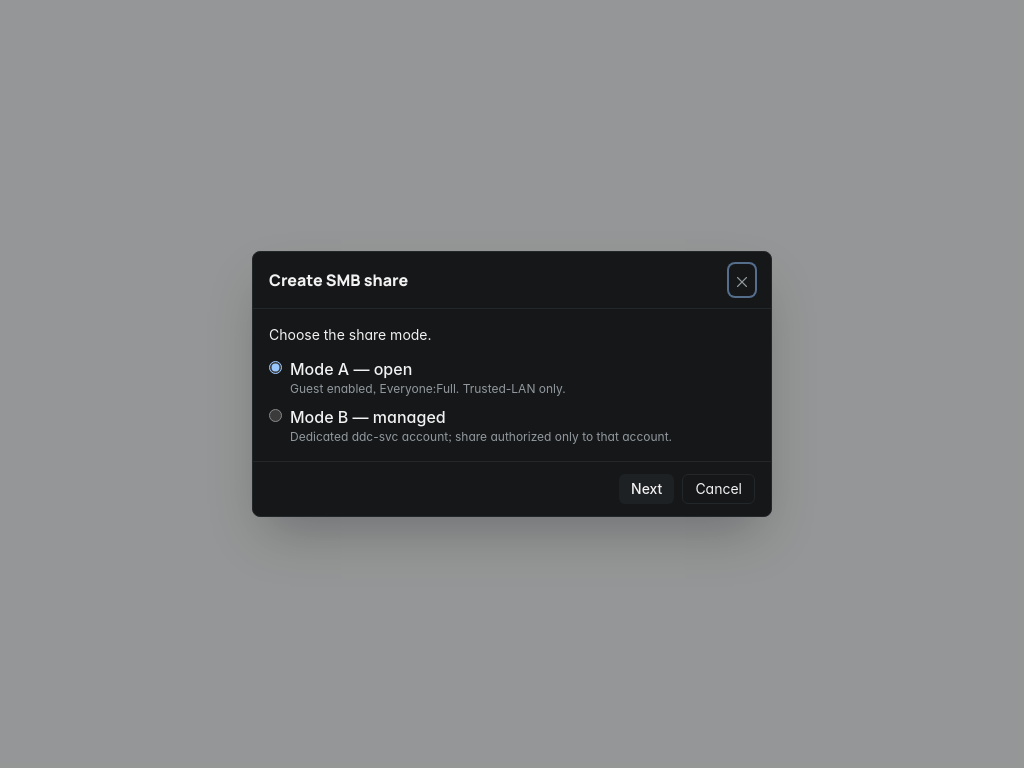
Test case: ShareCreateWizard › Mode B requires svc username field
Click the 2nd radio button at (276, 416), box [269,409,282,422]
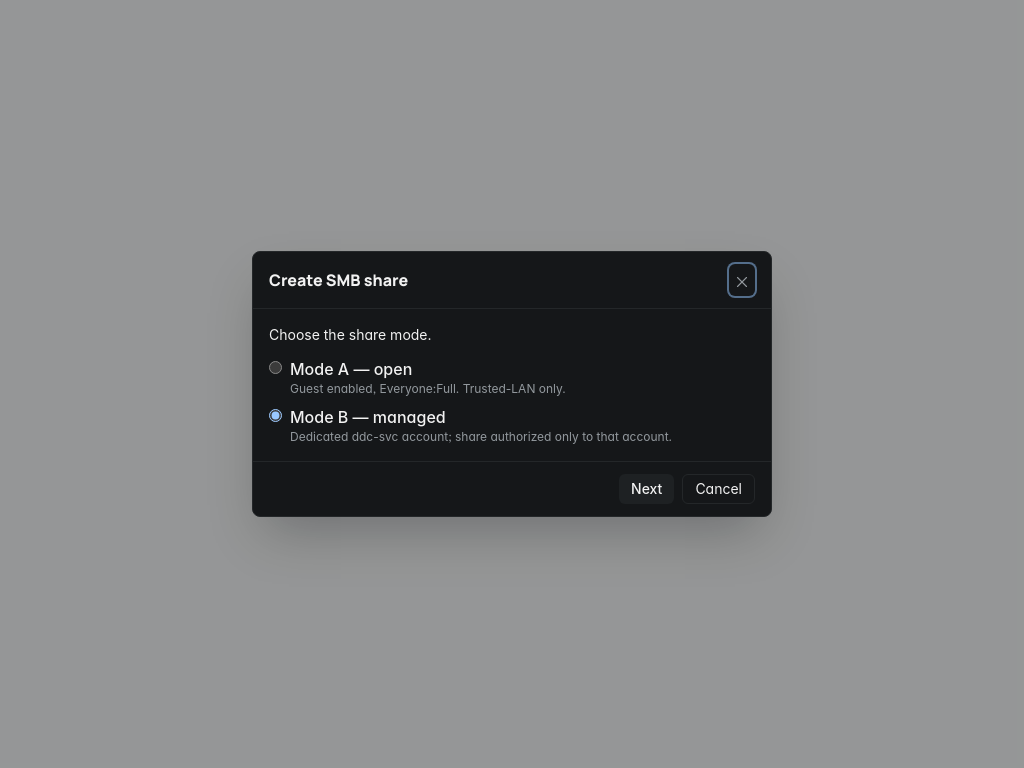
Click the button "Next" at (647, 489), box [619,474,674,504]
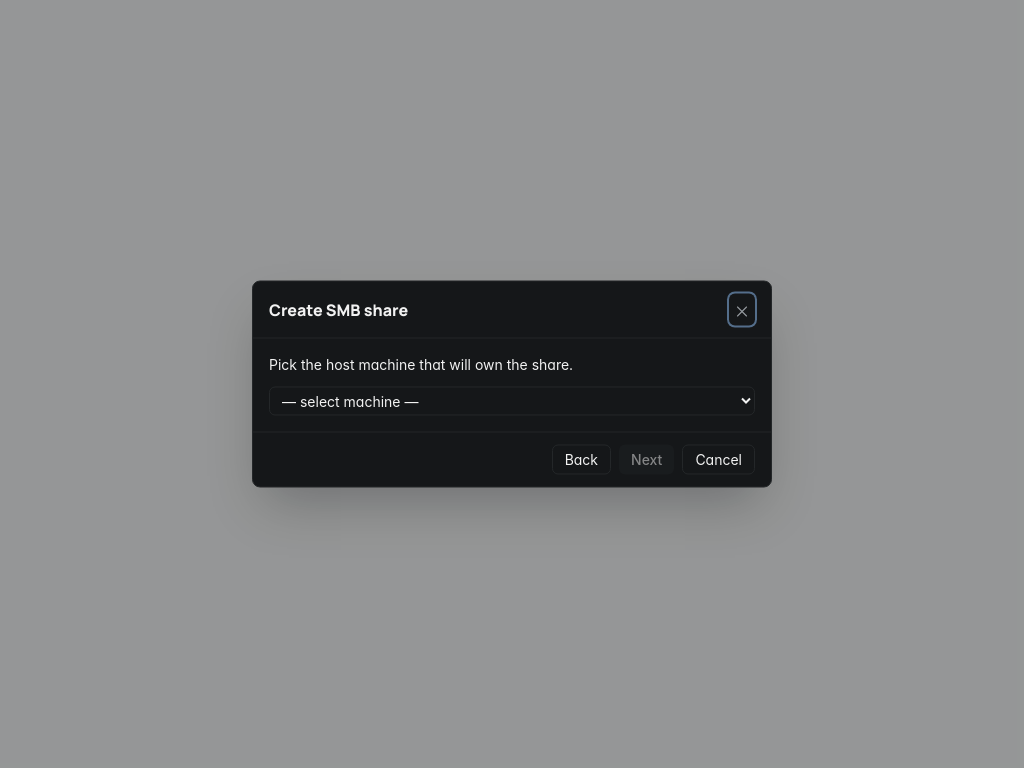
Select "lanPC (192.168.10.20)" in the dropdown at (512, 401), box [269,386,755,416]
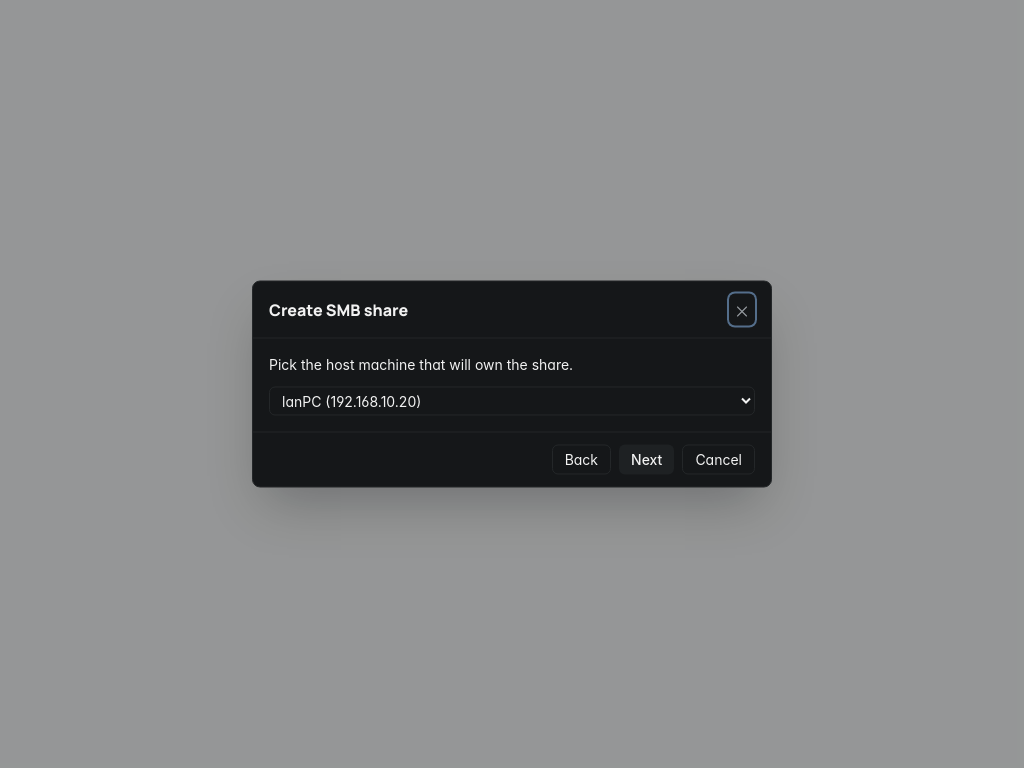
Click the button "Next" at (647, 460), box [619,444,674,474]
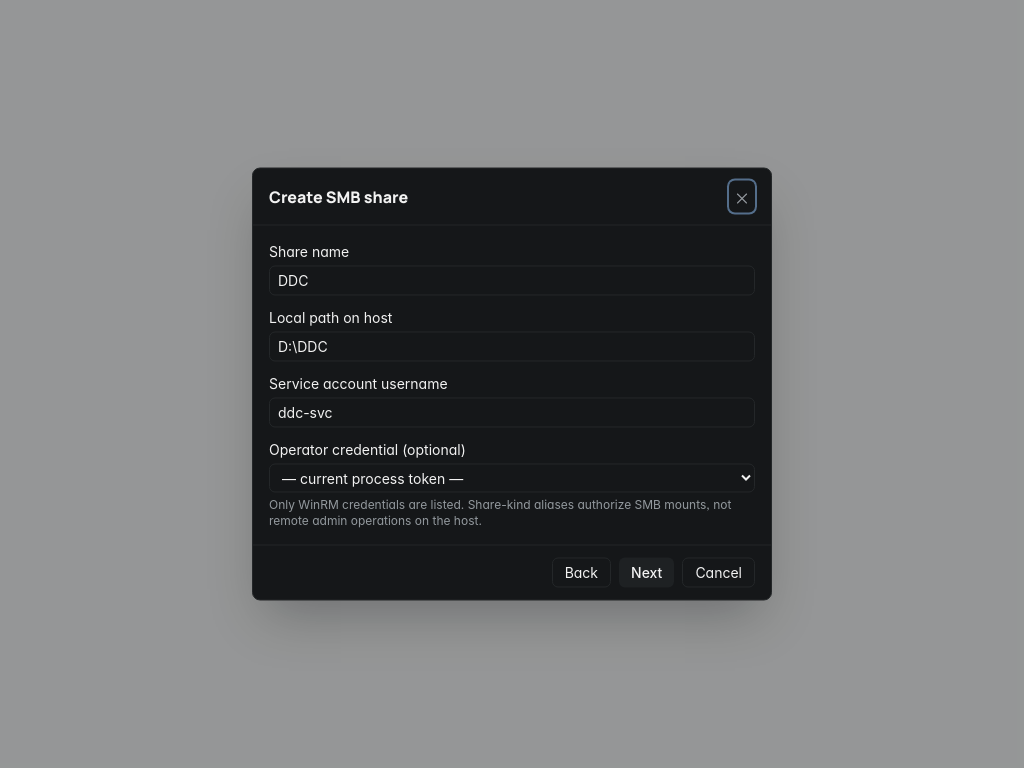
Expected: the 3rd field is shown, [269,398,755,428]
